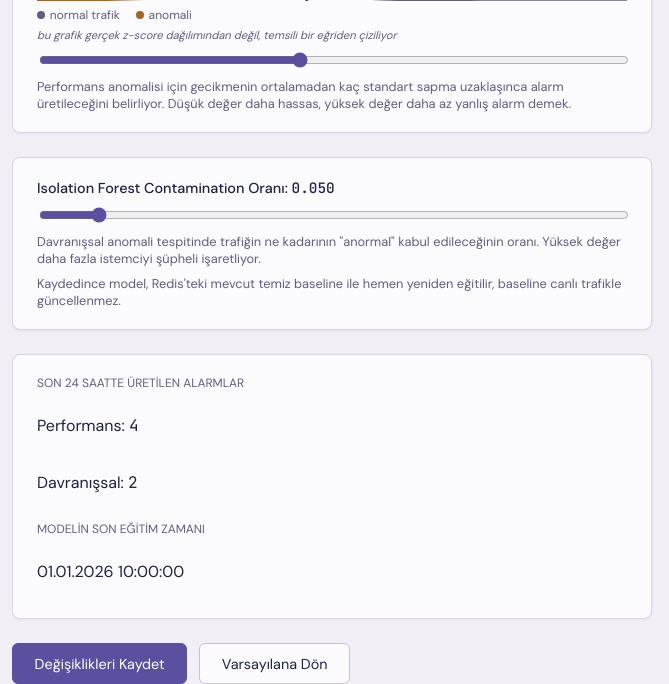
Test: ThresholdConfig › kaydet butonu doğru payload ile updateThresholdSettings çağırıyor
(page scrolled)
fireEvent yerine doğrudan value değiştirip change tetikliyor - range input'lar için daha güvenilir
What coordinates should you click on to do the following:
click the button "Değişiklikleri Kaydet"
I would click on:
 (100, 664)
Its box is [12, 643, 187, 683].
(page scrolled)
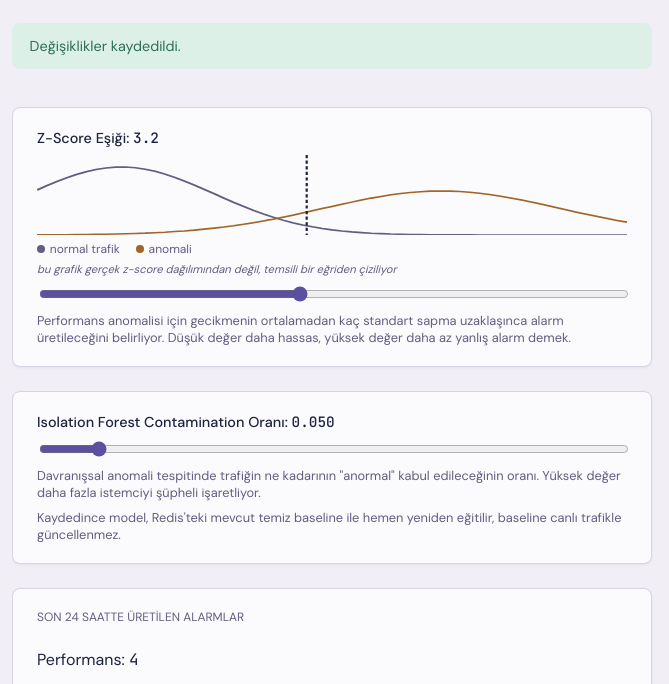
Check: the text "Değişiklikler kaydedildi." is shown, box [12, 23, 652, 69]
